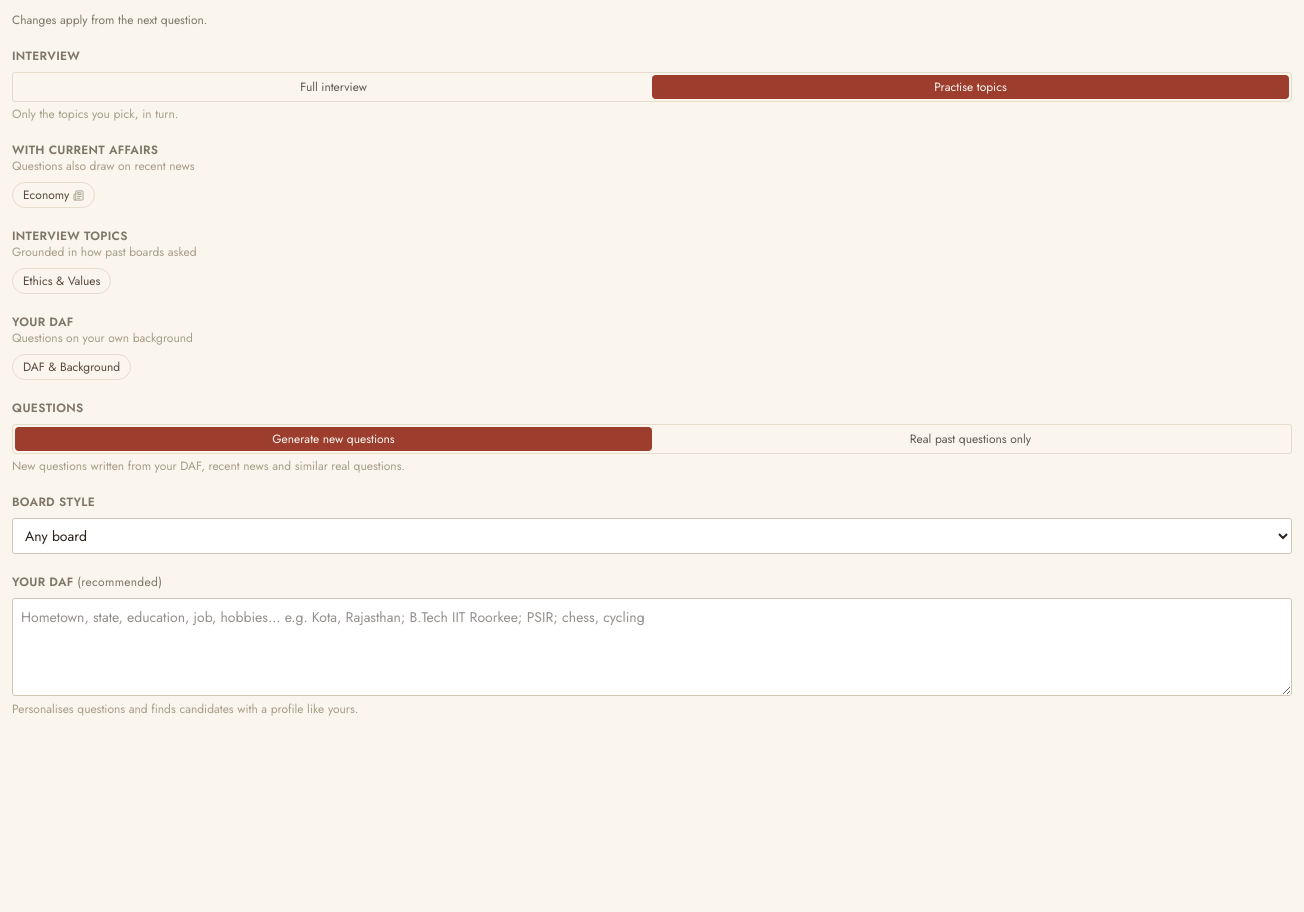
Scenario: a full interview hides the topics and offers a length
Expected: the text "Only the topics you pick, in turn." is shown, 12,105 -> 178,123
Click the radio button labelled "Full interview" at (334, 87), box 15,75 -> 652,99
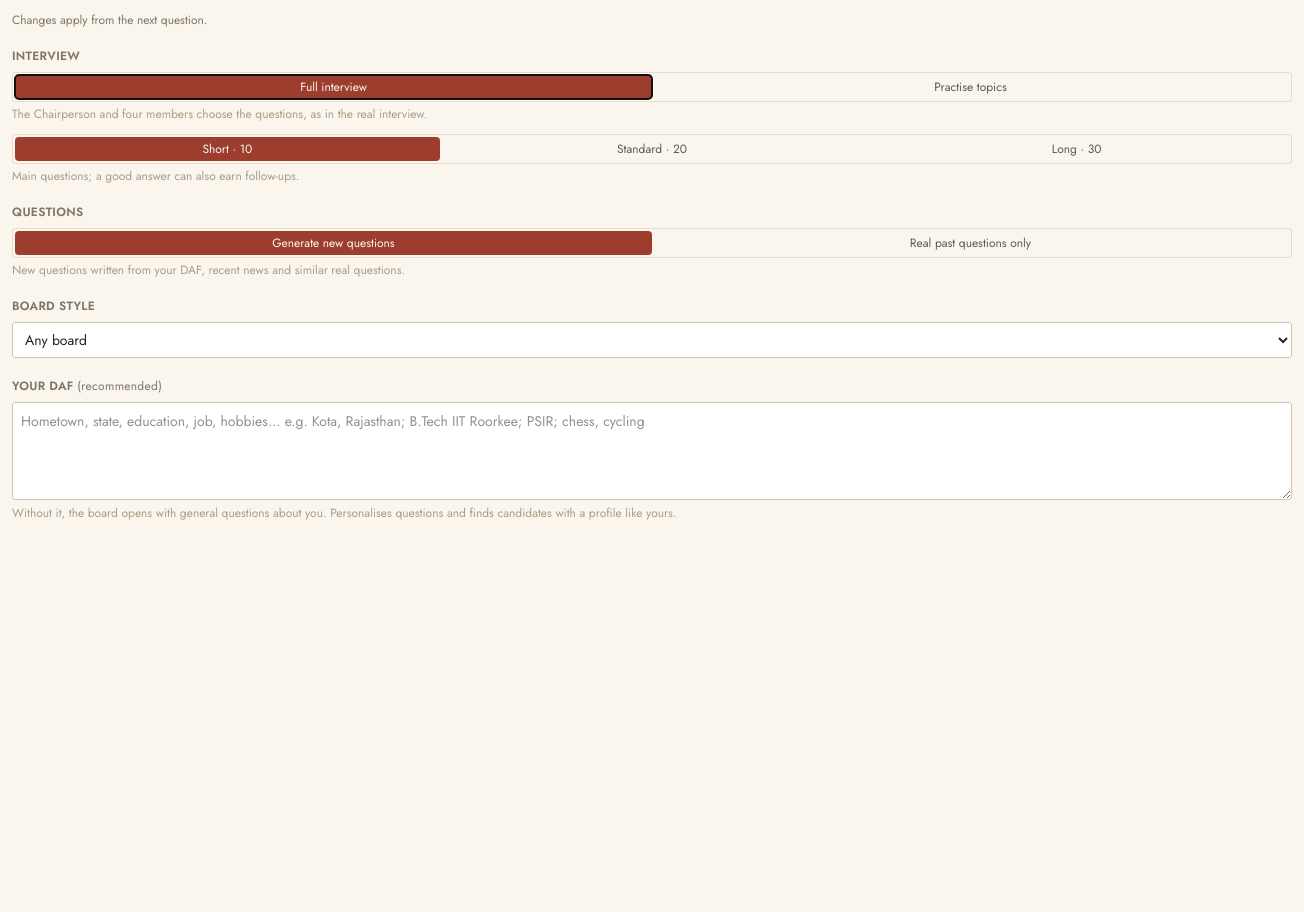
Now the heading "With current affairs" is gone
Now the text "four members choose the questions" is shown, box 12,105 -> 427,123
Click the radio button labelled "Long · 30" at (1077, 149), box 864,137 -> 1289,161
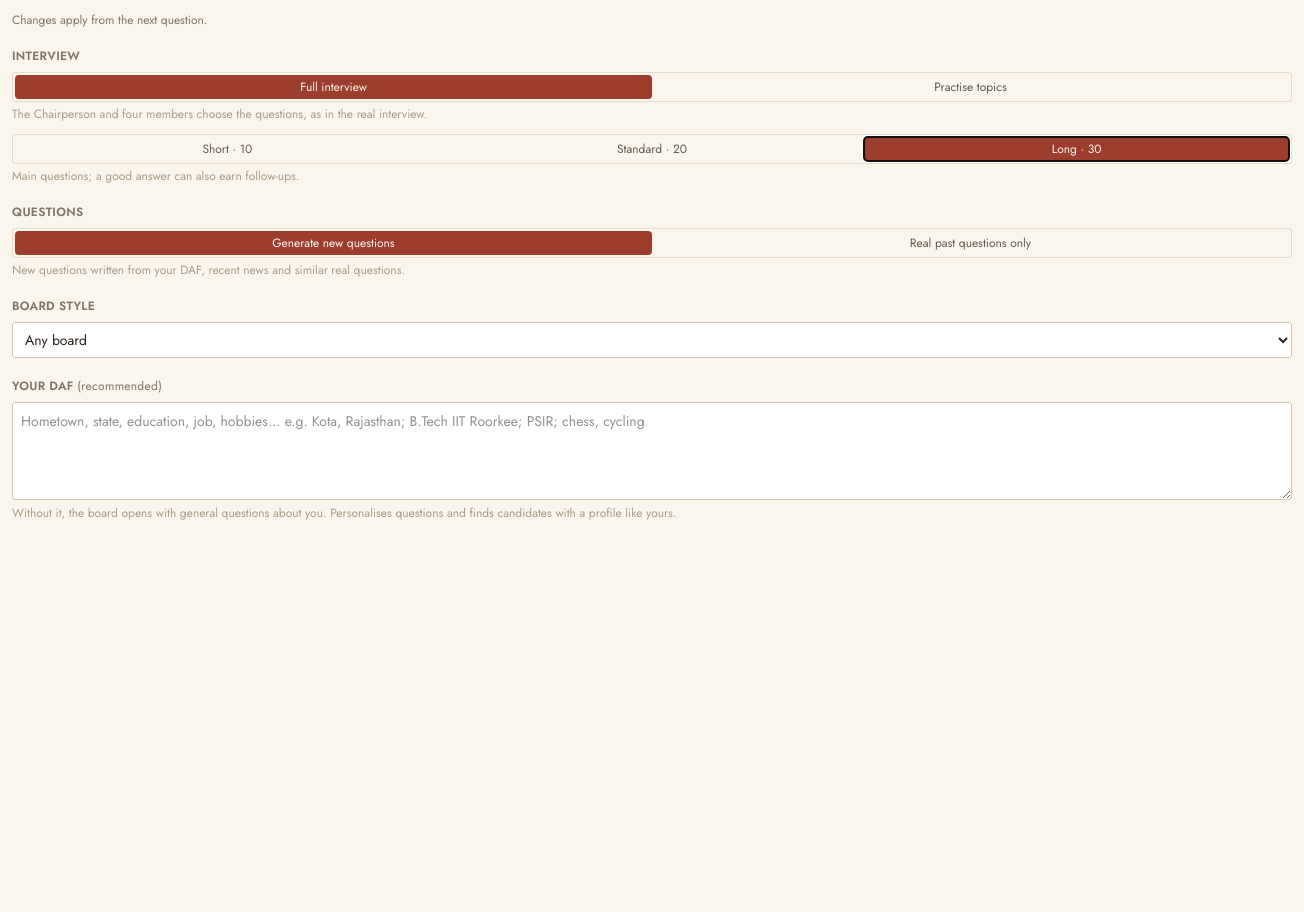
Now the text "the board opens with general questions about you" is shown, box 12,504 -> 330,522
Type "Kota" into the text box with placeholder "Hometown" at (652, 451), box 12,402 -> 1292,500
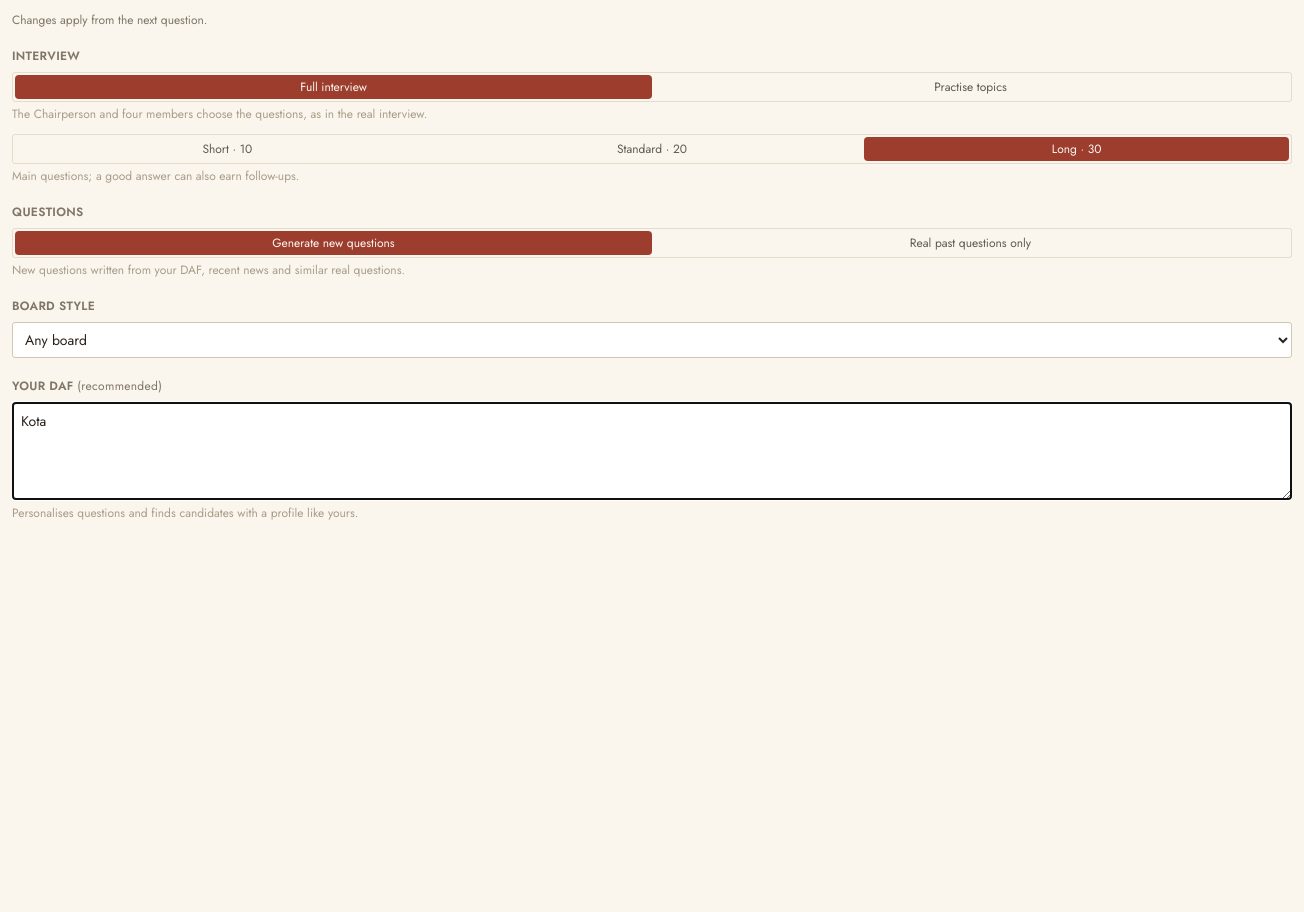
Now the text "the board opens with general questions" is gone
